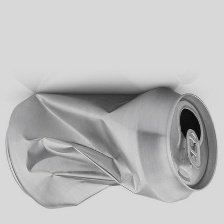can: (4, 77, 221, 217)
